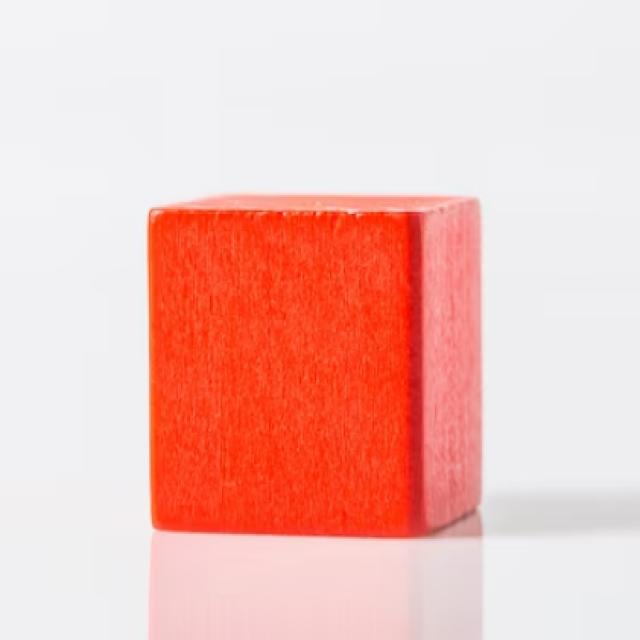red cube: (147, 190, 484, 540)
